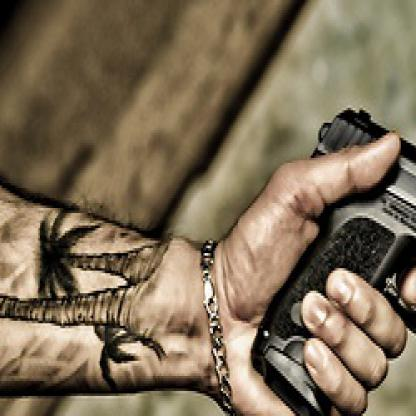gun: (245, 108, 414, 413)
